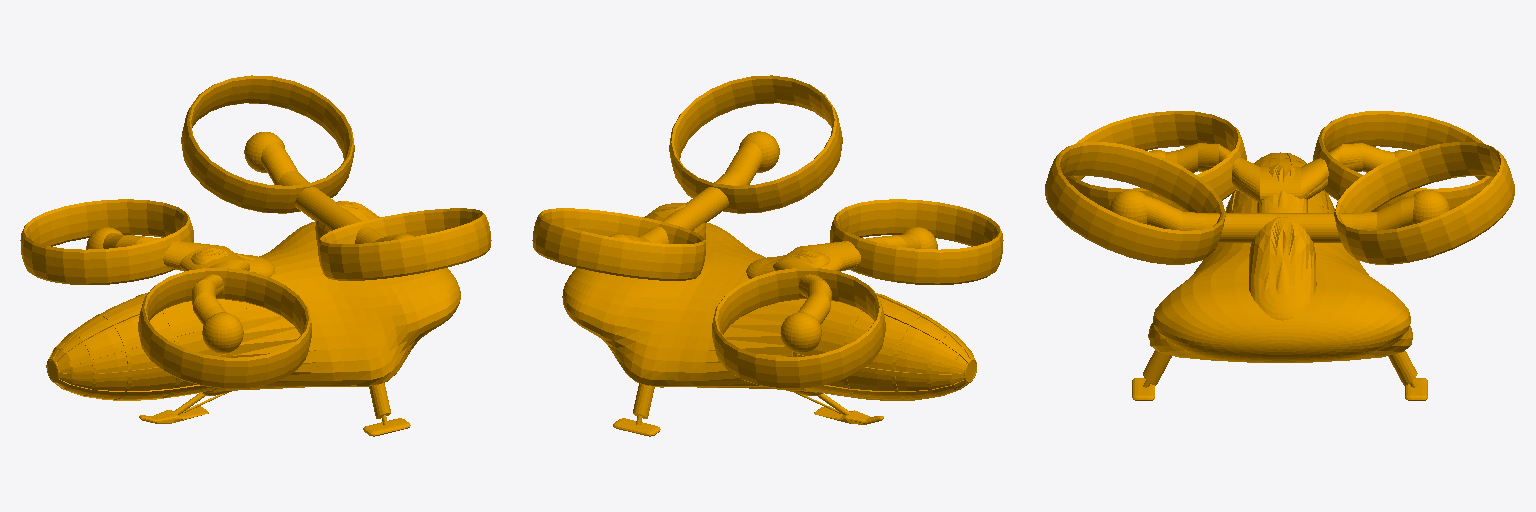
URDF robot description (airship):
<robot name="airship">
  <link name="airship">
    <inertial>
      <origin xyz="0 0 0.0145"/>
      <mass value="0.1" />
      <inertia  ixx="0.0001" ixy="0.0"  ixz="0.0"  iyy="0.0001"  iyz="0.0"  izz="0.0001" />
    </inertial>
    <visual>
      <origin xyz="0 0 0.0145"/>
      <geometry>        
     <mesh filename="airship.dae" scale="1 1 1"/>
    </geometry>
    </visual>
    <collision>
      <origin xyz="0 0 0.0145"/>
      <geometry>
        <box size="0.029 0.029 0.029"/>
      </geometry>
    </collision>
  </link>
  <gazebo reference="airship">
    <material>Gazebo/Blue</material>
  </gazebo>
</robot>

--- Facts derived from the render (not from the file) ---
The picture shows the robot from 3 angles, left to right: view 1: azimuth 30°, elevation 25°; view 2: azimuth 150°, elevation 25°; view 3: azimuth 270°, elevation 25°; orthographic projection.
Model airship with 1 links and 0 joints (none), rooted at airship, posed all joints at 0.
Links seen in each view (by area): view 1: airship; view 2: airship; view 3: airship.
Link boxes in pixels (bbox=[...]): airship: bbox=[20, 75, 491, 436]; airship: bbox=[532, 75, 1003, 436]; airship: bbox=[1045, 111, 1514, 400].
Bounding box of the posed robot: 0.2848 × 0.2903 × 0.1622 m (x, y, z).
Meshes: 1 distinct files referenced, 1 mesh visuals loaded (1 Collada DAE).